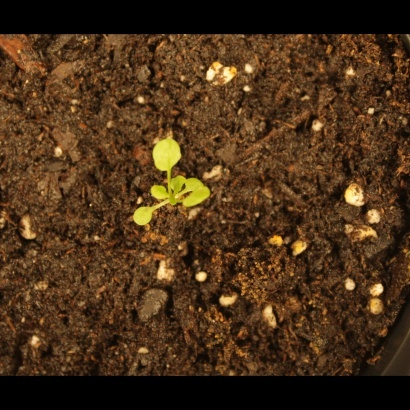leaf: (149, 132, 185, 174), (127, 203, 158, 231), (184, 186, 211, 212), (147, 179, 170, 206), (184, 176, 210, 199), (164, 174, 187, 197)
